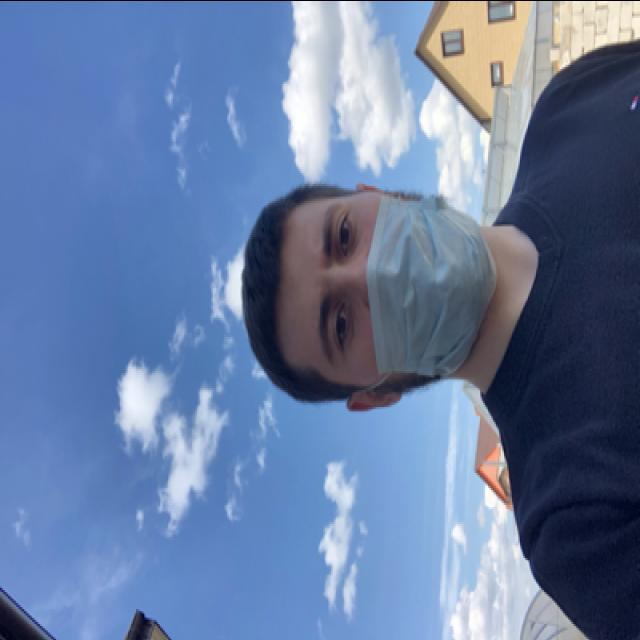mask: (306, 191, 498, 385)
